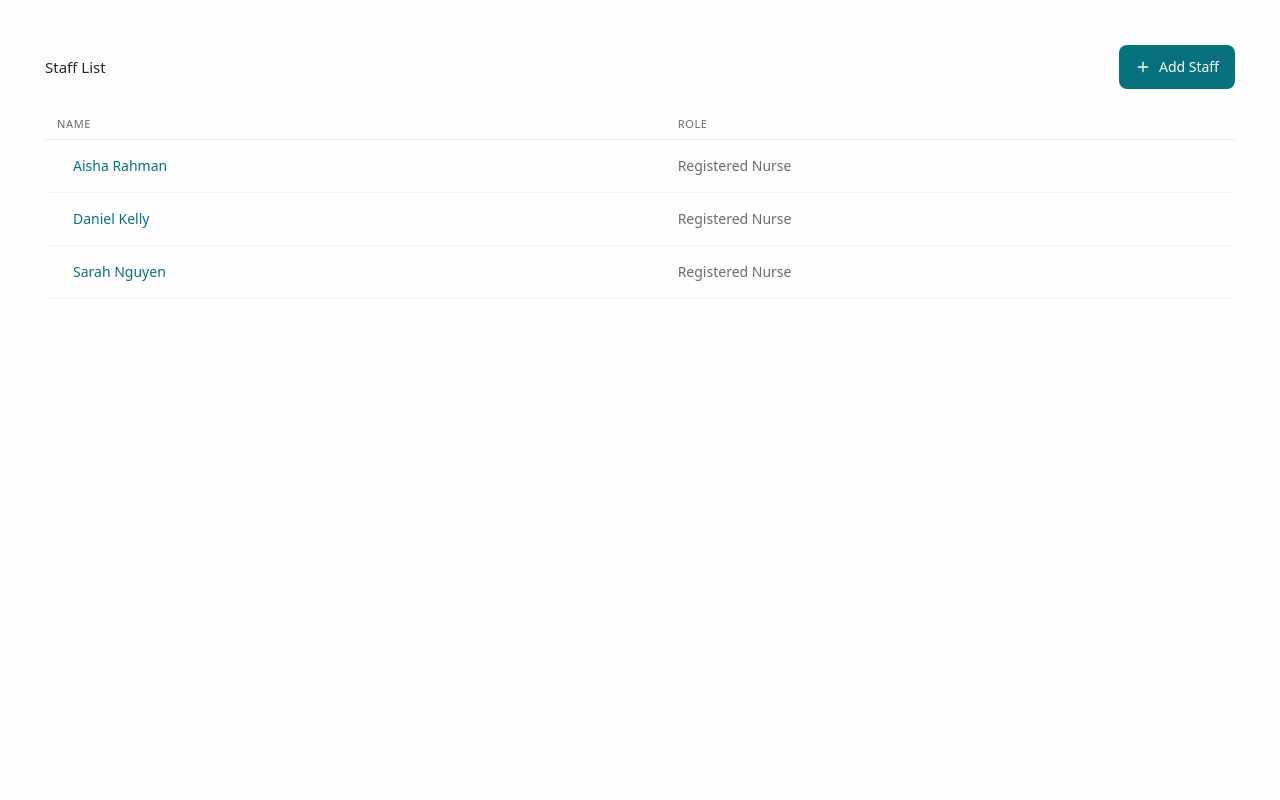
Test: [ADM-08][AC-04] the carer's Clients list › [ADM-08][AC-04] shows no Clients list until a name is pressed, and none after closing
The image size is (1280, 800).
expect the element "Clients for " is not shown: met
Click the button with aria-label "Edit Aisha Rahman".
click(120, 166)  # box left=57, top=144, right=183, bottom=188
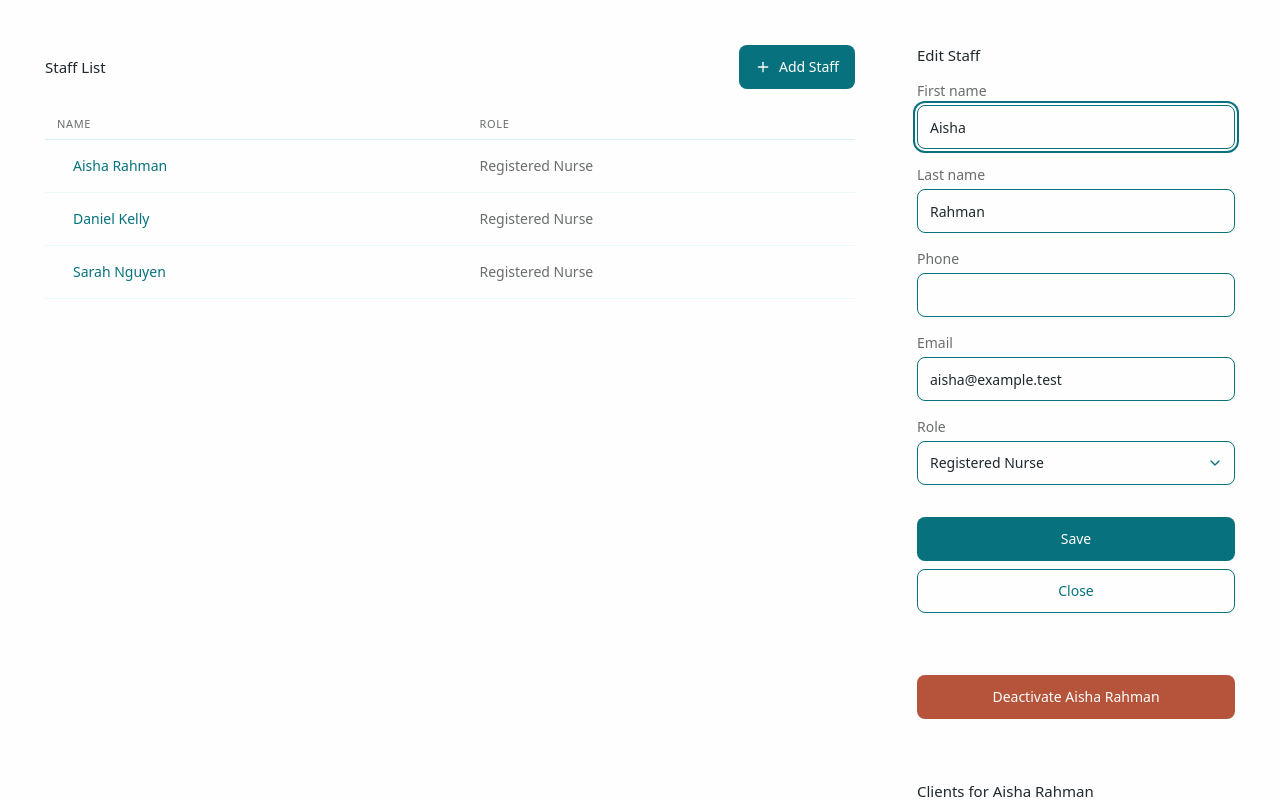
Click the button "Close".
click(1076, 591)  # box left=917, top=569, right=1235, bottom=613
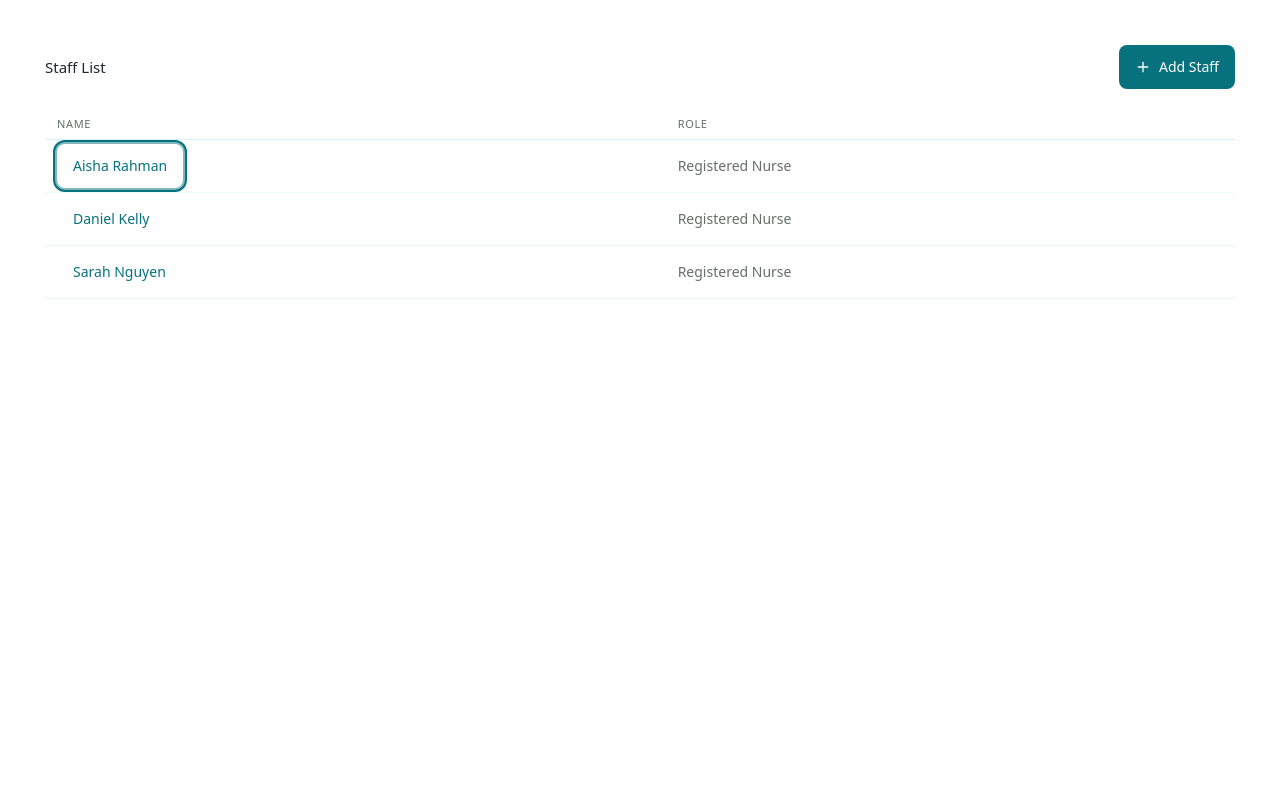
expect the heading "Clients for " is gone: met
